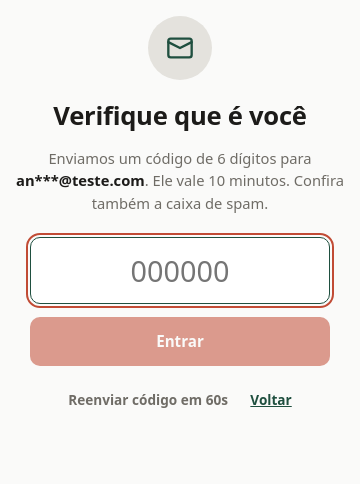
Scenario: RN17 - Verificação em Duas Etapas › sem conexão com o servidor, avisa em vez de travar
Type "123456" into the field named "Código". click: {"x": 180, "y": 271}
box: [30,237,330,304]
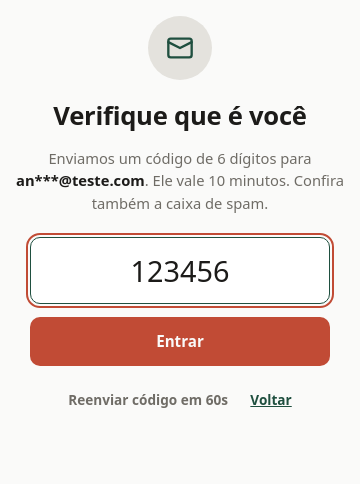
Click the button "Entrar". click: {"x": 180, "y": 341}
box: [30,317,330,366]
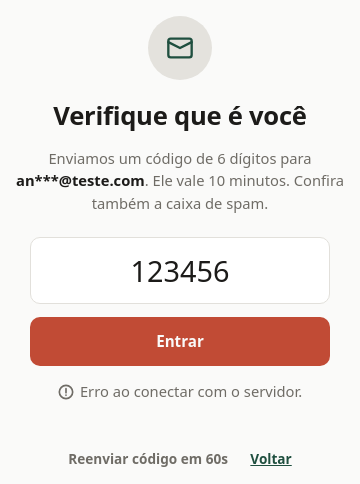
Expected: the message reads "Erro ao conectar com o servidor.", [80,381,302,401]
